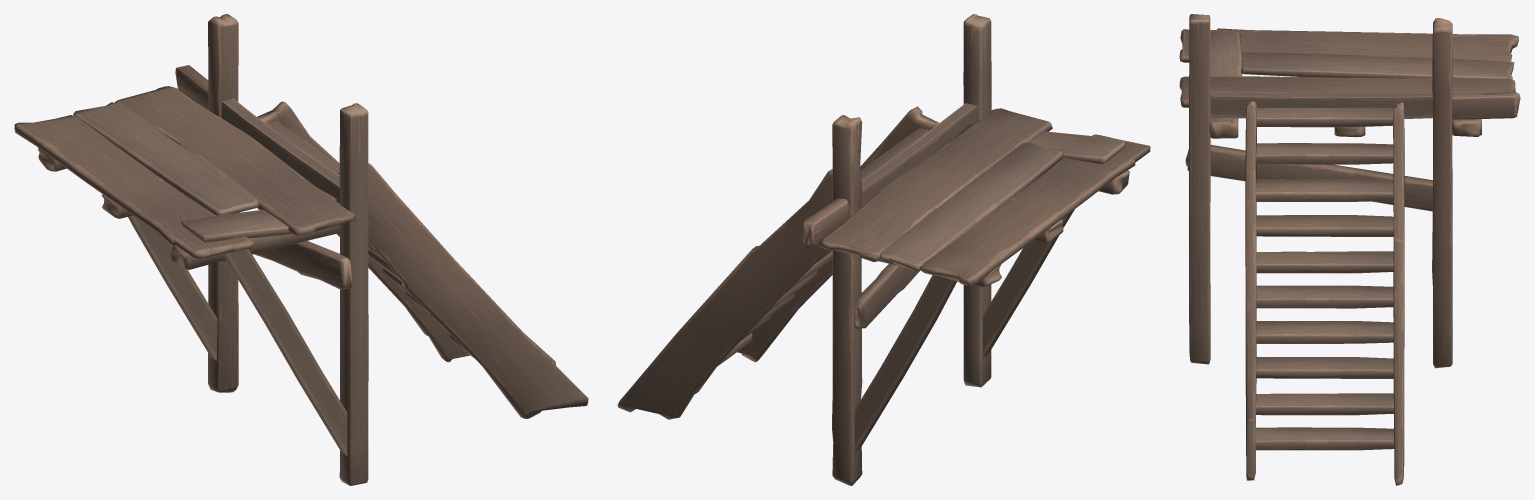
The model's file is SM_Walkway_Stairs.fbx.
The picture shows the model from 3 angles, left to right: view 1: azimuth 30°, elevation 25°; view 2: azimuth 150°, elevation 25°; view 3: azimuth 270°, elevation 25°; orthographic projection. The views are drawn at different scales.
Parts seen in each view (by area): view 1: SM_Walkway_Stairs_LOD0; view 2: SM_Walkway_Stairs_LOD0; view 3: SM_Walkway_Stairs_LOD0.
Boxes of the visible parts, x1,y1,x2,y2 form: SM_Walkway_Stairs_LOD0: [14, 14, 588, 485]; SM_Walkway_Stairs_LOD0: [617, 14, 1150, 485]; SM_Walkway_Stairs_LOD0: [1179, 14, 1520, 485].
Size of the model in its own units: 489 by 362 by 415.
1 material, 1 textured.
